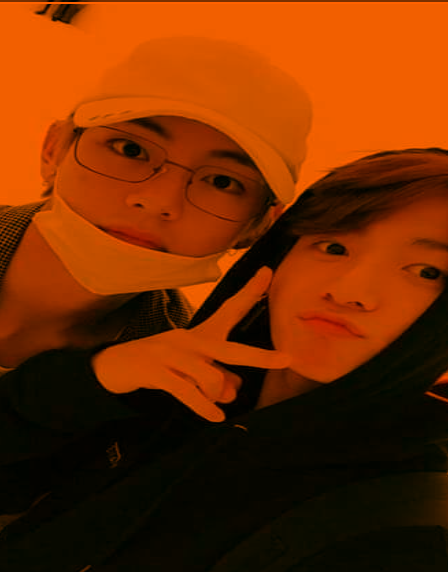mask_weared_incorrect: (43, 33, 307, 299)
